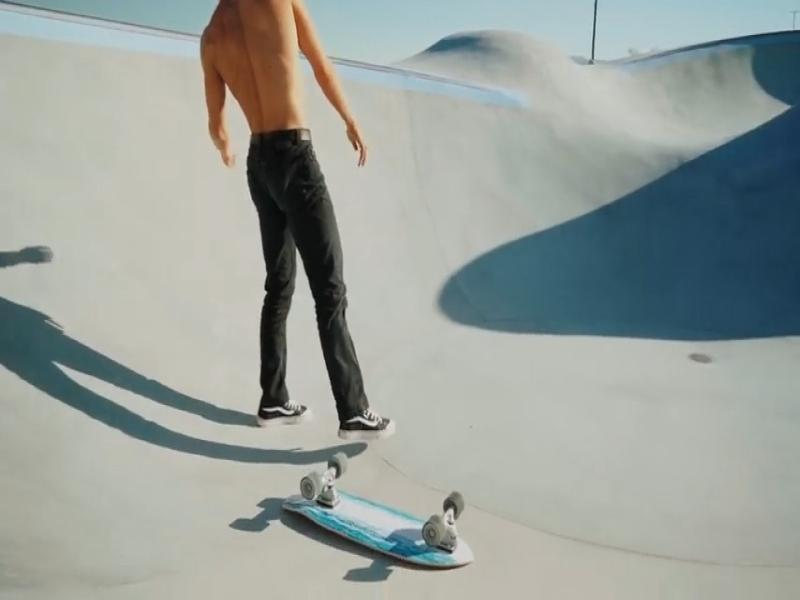person: (200, 0, 395, 439)
skate: (283, 492, 473, 568)
